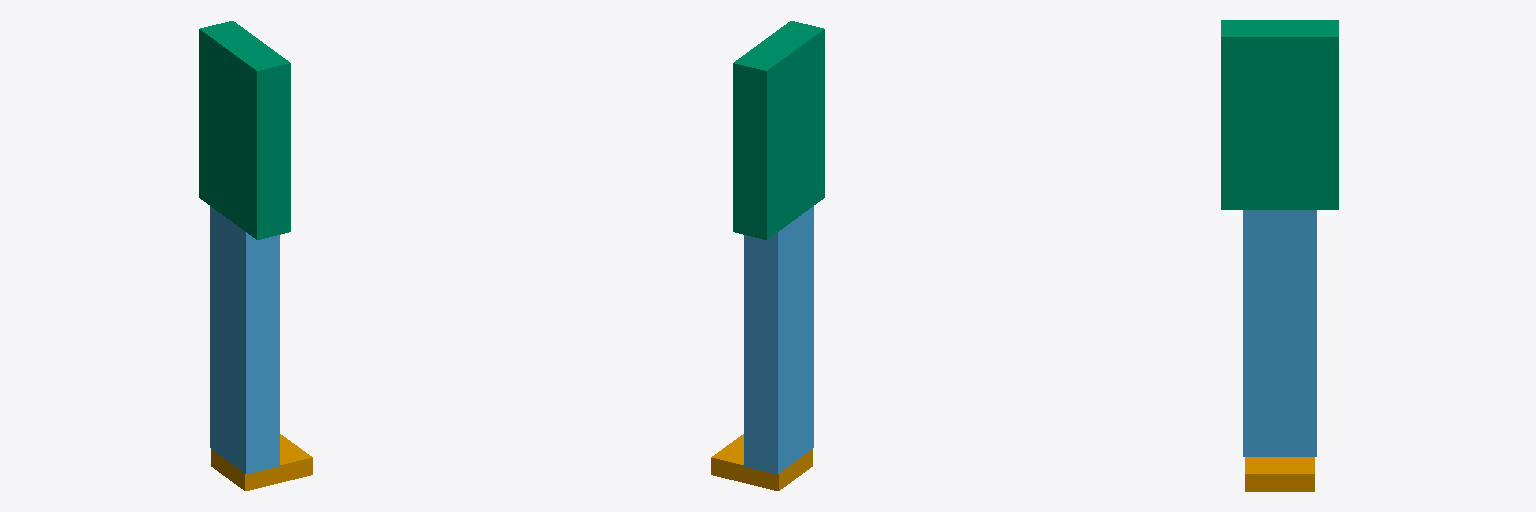
URDF robot description (threeLinkHuman_subject7):
<robot name="threeLinkHuman_subject7">
    <link name="foot">
        <inertial>
            <mass value="4.3965"/>
            <origin xyz="0 0 0.026934" rpy="0 0 0" />
            <inertia ixx="0.014284" iyy="0.01817" izz="0.030327" ixy="0" ixz="0" iyz="0"/>
        </inertial>

        <visual>
			<origin xyz="0 0 0.026934" rpy="0 0 0" />
            <geometry>
                <box size="0.21609 0.18996 0.053868"/>
            </geometry>
        </visual>

        <collision>
			<origin xyz="0 0 0.026934" rpy="0 0 0" />
            <geometry>
                <box size="0.21609 0.18996 0.053868"/>
            </geometry>
        </collision>
    </link>
    
    <link name="leg">
        <inertial>
            <mass value="32.1664"/>
            <origin xyz="0 0 0.37055" rpy="0 0 0" />
            <inertia ixx="1.5817" iyy="1.5035" izz="0.14071" ixy="0" ixz="0" iyz="0"/>
        </inertial>

        <visual>
            <origin xyz="0 0 0.37055" rpy="0 0 0" />
            <geometry>
                <box size="0.10804 0.20204 0.7411"/>
            </geometry>
        </visual>

        <collision>
            <origin xyz="0 0 0.37055" rpy="0 0 0" />
            <geometry>
                <box size="0.10804 0.20204 0.7411"/>
            </geometry>
        </collision>
    </link>
    
    <link name="torso">
        <inertial>
            <mass value="35.7639"/>
            <origin xyz="0 0 0.25862" rpy="0 0 0" />
            <inertia ixx="1.1061" iyy="0.83213" izz="0.34355" ixy="0" ixz="0" iyz="0"/>
        </inertial>

        <visual>
            <origin xyz="0 0 0.25862" rpy="0 0 0" />
            <geometry>
                <box size="0.10804 0.32187 0.51724"/>
            </geometry>
        </visual>

        <collision>
            <origin xyz="0 0 0.25862" rpy="0 0 0" />
            <geometry>
                <box size="0.10804 0.32187 0.51724"/>
            </geometry>
        </collision>
    </link>
        
    <joint name="ankle" type="revolute">
        <origin xyz="-0.054021 0 0.053868" rpy="0 0 0"/>
        <parent link="foot"/>
        <child link="leg"/>
        <dynamics damping="0.1" friction="0.0"/>
        <limit effort="30" velocity="1.0" lower="-10.0" upper="10.0" />
        <axis xyz="0 1 0" />
    </joint>
    
    <joint name="hip" type="revolute">
        <origin xyz="0 0 0.7411" rpy="0 0 0"/>
        <parent link="leg"/>
        <child link="torso"/>
        <dynamics damping="0.1" friction="0.0"/>
        <limit effort="30" velocity="1.0" lower="-10.0" upper="10.0" />
        <axis xyz="0 1 0" />
    </joint>

</robot>

--- Render facts (derived) ---
Views: 3 orthographic renders of the robot side by side, from view 1: azimuth 30°, elevation 25°; view 2: azimuth 150°, elevation 25°; view 3: azimuth 270°, elevation 25°.
Robot: threeLinkHuman_subject7 — 3 links, 2 joints (2 revolute); root link foot; default pose: every joint at zero.
Visible links, largest first — view 1: torso, leg, foot; view 2: torso, leg, foot; view 3: torso, leg, foot.
Link boxes in pixels (x1,y1,x2,y2): torso: (199, 21, 290, 239); leg: (210, 206, 279, 474); foot: (211, 434, 312, 490); torso: (733, 21, 824, 239); leg: (744, 206, 813, 474); foot: (711, 434, 812, 490); torso: (1221, 20, 1338, 209); leg: (1243, 210, 1316, 456); foot: (1245, 457, 1314, 491).
Bounding box of the posed robot: 0.2161 × 0.3219 × 1.31 m (x, y, z).
Geometry: primitives only (box / cylinder / sphere), no mesh files.
